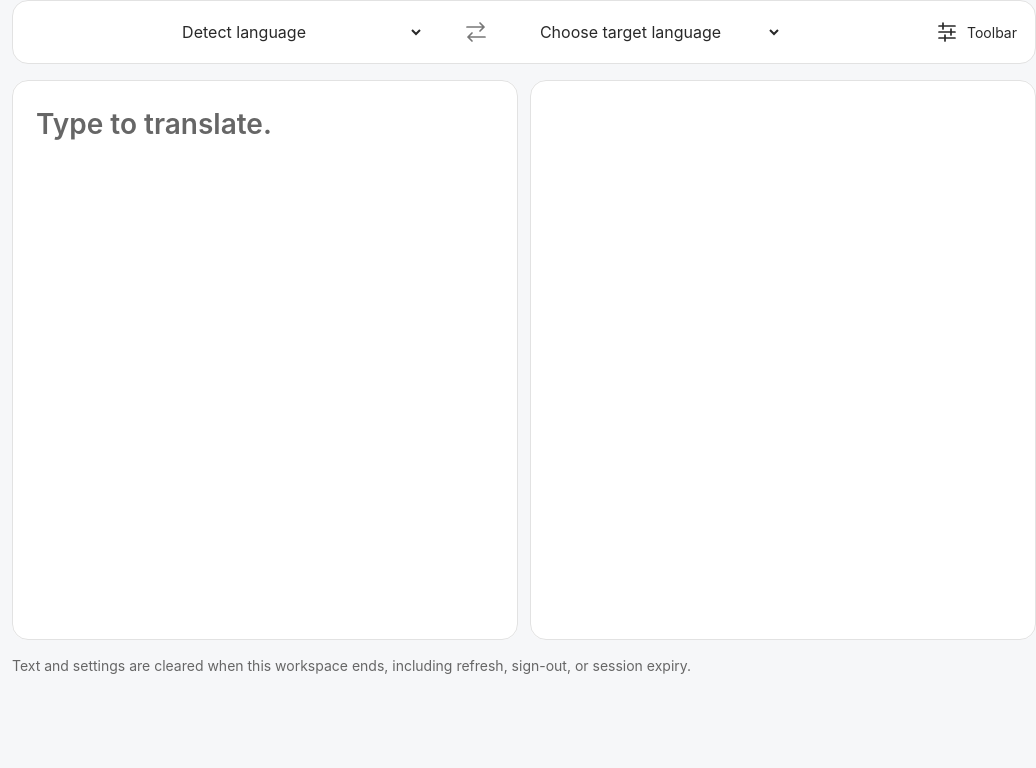
Test: queues only the latest paused source until the previous operation settles
Select "English" in the 1st dropdown named "Source language" at (297, 32), box top-left (170, 10), bottom-right (424, 54)
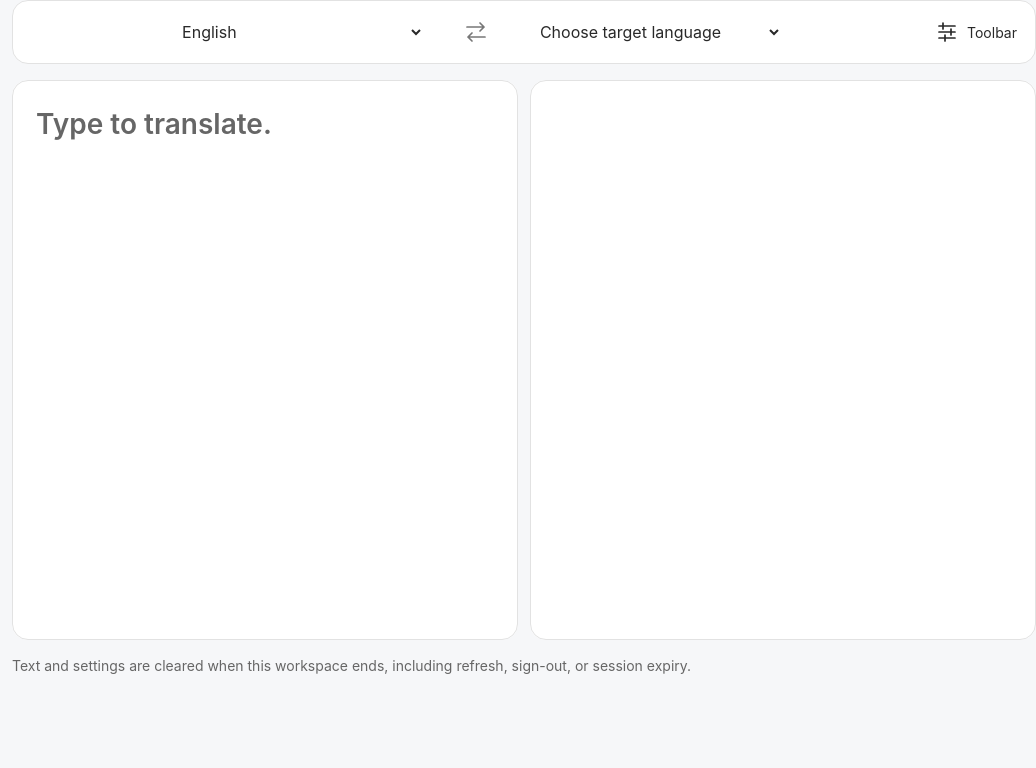
Select "Romanian" in the 2nd dropdown named "Target language" at (655, 32), box top-left (528, 10), bottom-right (782, 54)
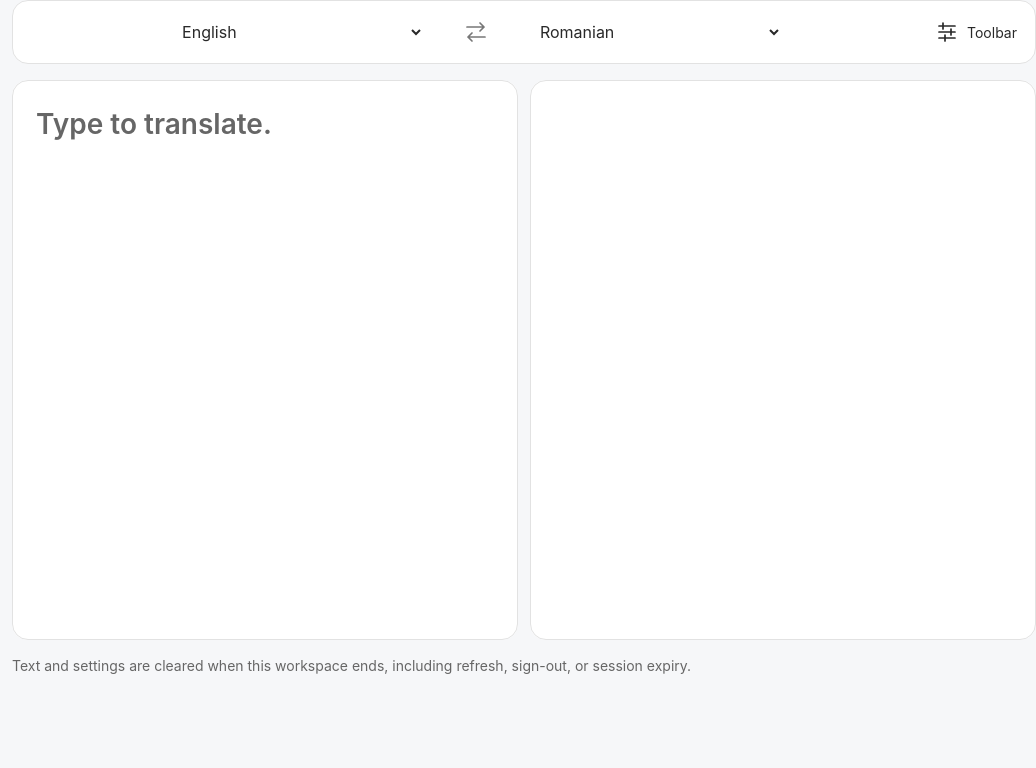
Type "First." into the text box labelled "Source text" at (265, 338), box top-left (36, 104), bottom-right (494, 572)
Wait 1000 ms
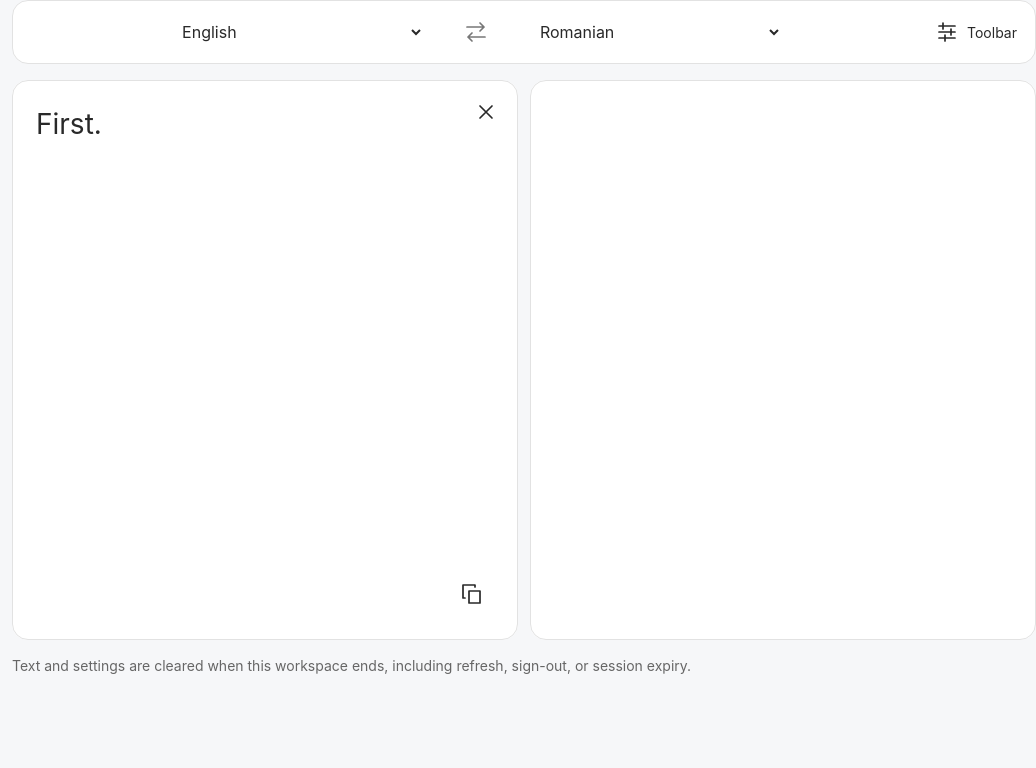
Replace the text in the text box labelled "Source text" with "Second." at (265, 338), box top-left (36, 104), bottom-right (494, 572)
Wait 1000 ms
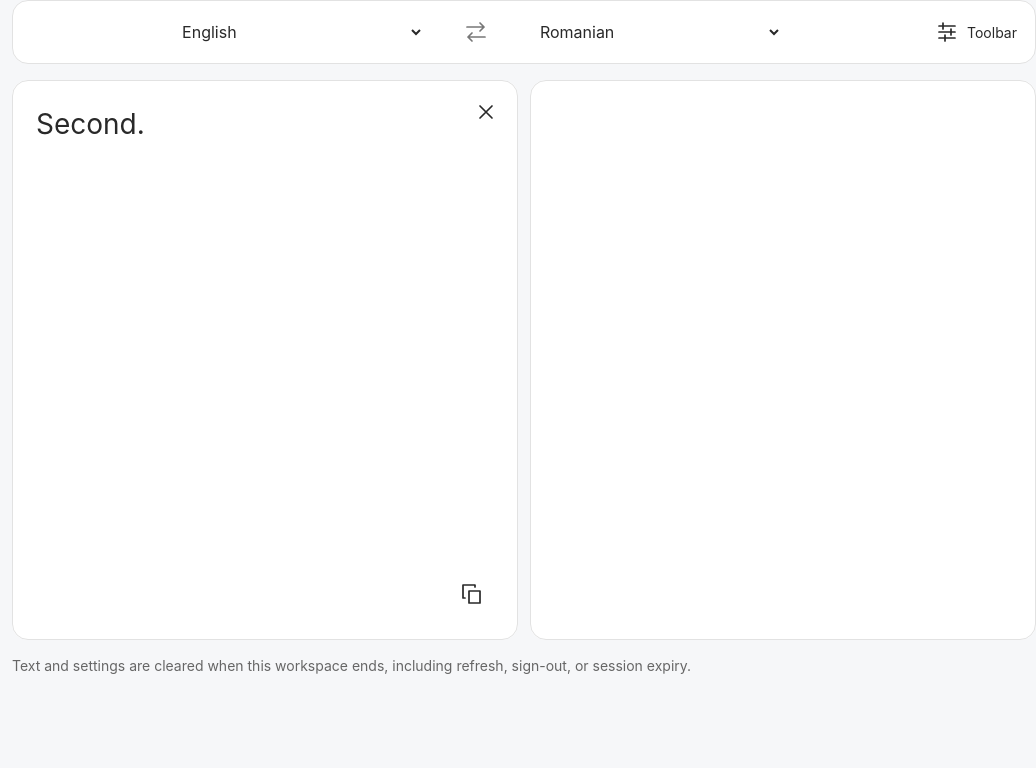
Replace the text in the text box labelled "Source text" with "Third." at (265, 338), box top-left (36, 104), bottom-right (494, 572)
Wait 1000 ms
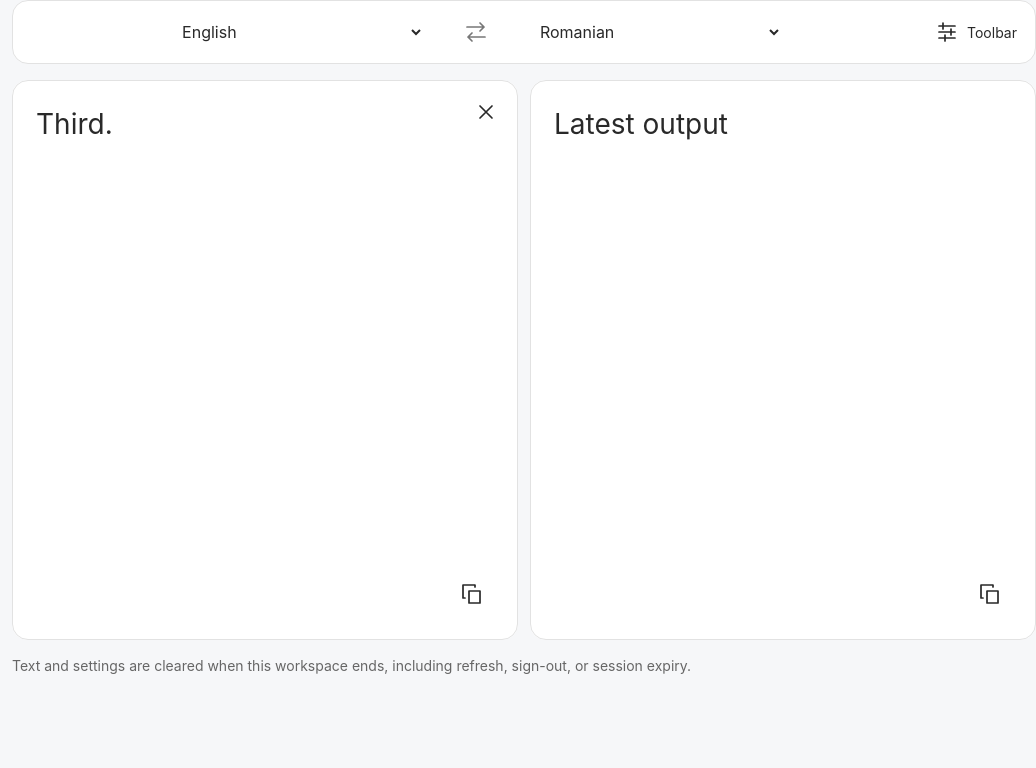
Check: the text box labelled "Translation result" holds "Latest output", box top-left (554, 104), bottom-right (1012, 572)
